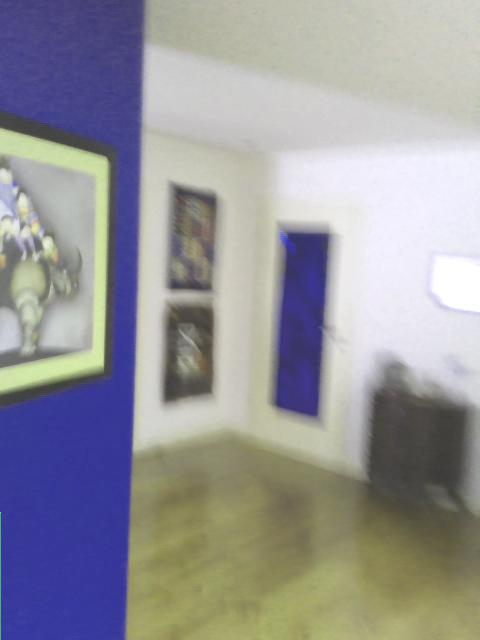closed_door: (244, 192, 359, 474)
